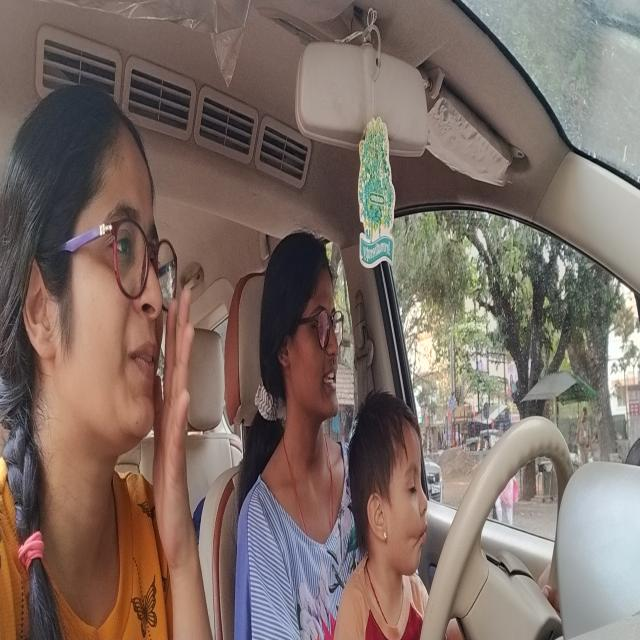child: (356, 395, 430, 580)
person: (27, 92, 169, 448), (276, 231, 346, 428)
